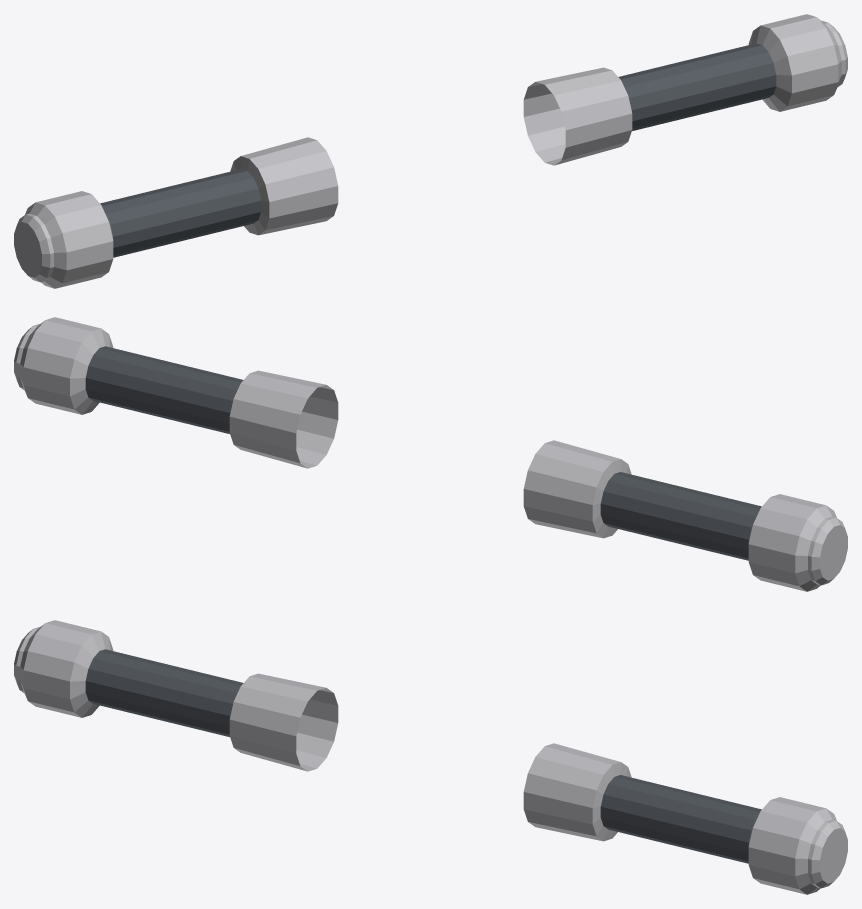
Rendered from Personal_Vehicle_03_Footrest.fbx.
3 views of the same model, one above another, from view 1: azimuth 30°, elevation 25°; view 2: azimuth 150°, elevation 25°; view 3: azimuth 330°, elevation 25° (orthographic).
Visible parts, largest first — view 1: Personal_Vehicle_03_Footrest; view 2: Personal_Vehicle_03_Footrest; view 3: Personal_Vehicle_03_Footrest.
Boxes of the visible parts, x1=… form: Personal_Vehicle_03_Footrest: x1=14, y1=14, x2=847, y2=288; Personal_Vehicle_03_Footrest: x1=14, y1=317, x2=847, y2=591; Personal_Vehicle_03_Footrest: x1=14, y1=620, x2=847, y2=894.
Size of the model in its own units: 90.39 by 8.62 by 8.4.
1 material, 1 textured.
